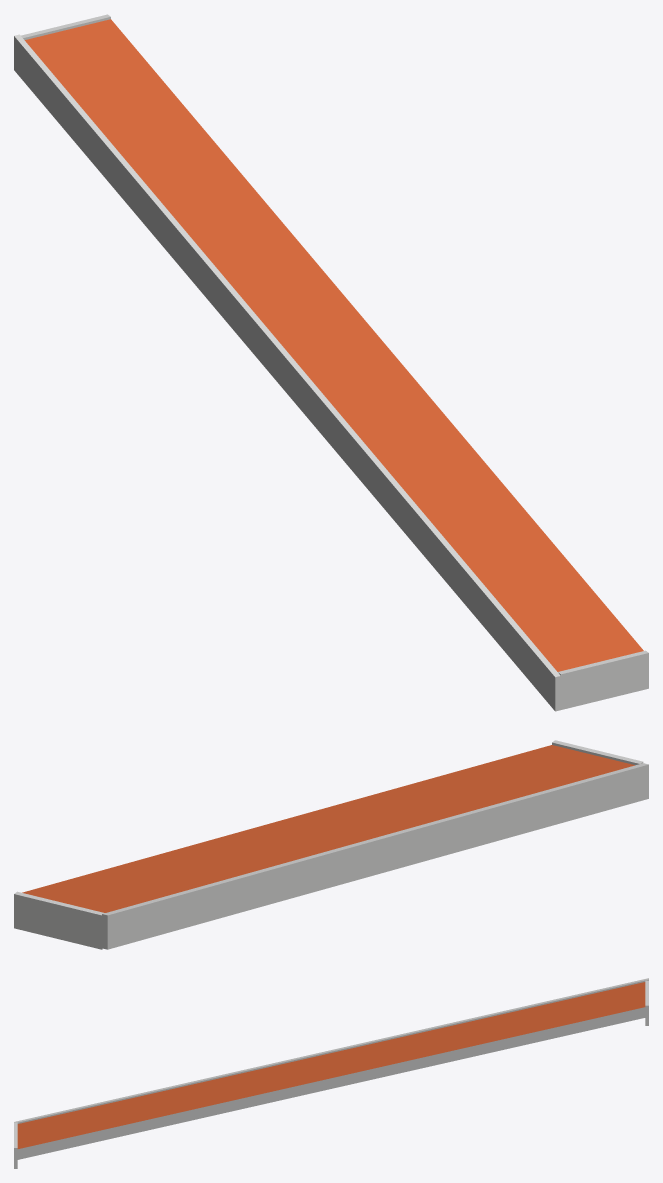
The model's file is telhado_meia_agua_empena_esq_v4_i25.glb.
3 views of the same model, one above another, from view 1: azimuth 30°, elevation 25°; view 2: azimuth 150°, elevation 25°; view 3: azimuth 270°, elevation 25° (orthographic). The views are drawn at different scales.
Visible parts, largest first — view 1: telhado_meia_agua_empena_esq_v4_i25; view 2: telhado_meia_agua_empena_esq_v4_i25; view 3: telhado_meia_agua_empena_esq_v4_i25.
Boxes of the visible parts, x1,y1,x2,y2 form: telhado_meia_agua_empena_esq_v4_i25: [14, 14, 648, 711]; telhado_meia_agua_empena_esq_v4_i25: [14, 740, 648, 949]; telhado_meia_agua_empena_esq_v4_i25: [14, 978, 648, 1168].
Size of the model in its own units: 0.5 by 1.42 by 5.
